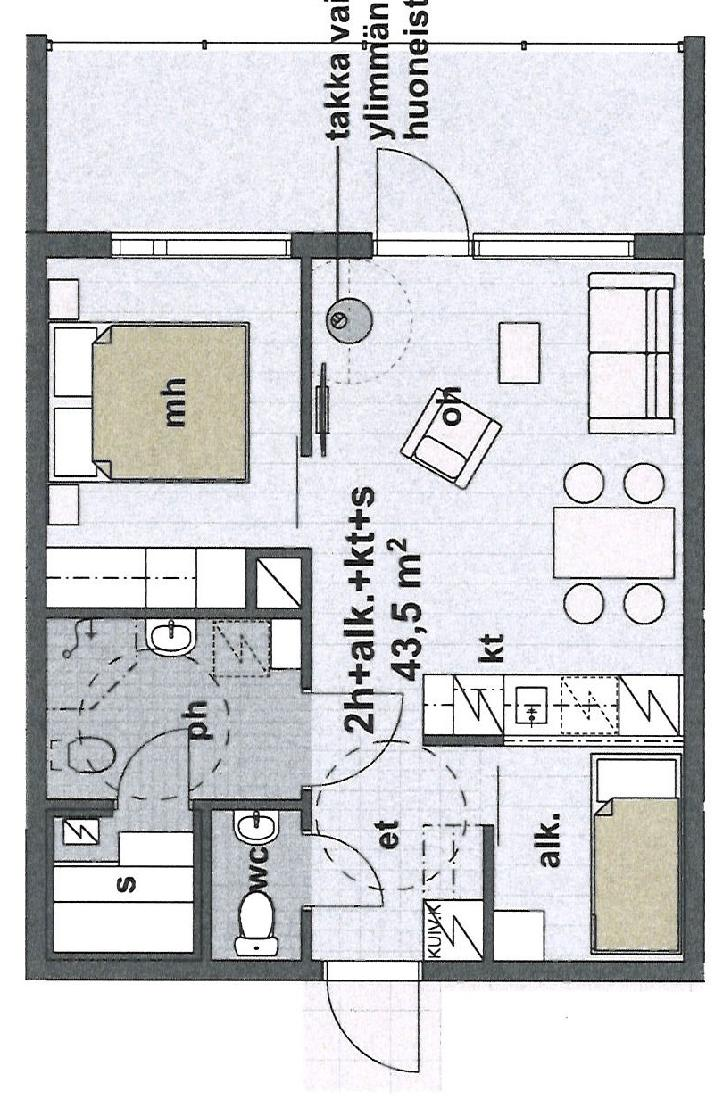door: (326, 963, 430, 1074), (299, 688, 414, 785), (377, 137, 467, 255), (296, 836, 391, 924)
window: (108, 224, 295, 272), (468, 236, 627, 262)
zone: (307, 250, 682, 963), (52, 41, 683, 232), (45, 613, 307, 957), (42, 255, 307, 543), (198, 805, 301, 967)
